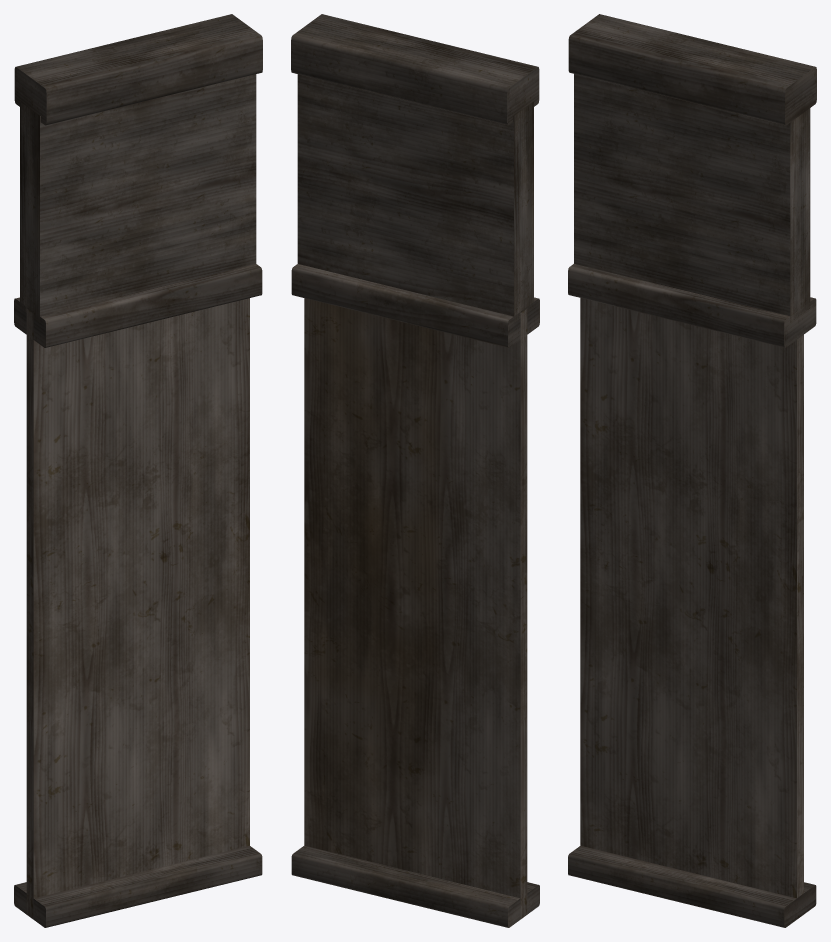
The model's file is ShrineModule_Wall-03.fbx.
3 views of the same model, side by side, from view 1: azimuth 30°, elevation 25°; view 2: azimuth 150°, elevation 25°; view 3: azimuth 330°, elevation 25° (orthographic).
Visible parts, largest first — view 1: ShrineModule_Wall-03; view 2: ShrineModule_Wall-03; view 3: ShrineModule_Wall-03.
Part boxes in pixels (left/top/right/bottom): ShrineModule_Wall-03: left=14, top=14, right=262, bottom=927; ShrineModule_Wall-03: left=291, top=14, right=539, bottom=927; ShrineModule_Wall-03: left=568, top=14, right=816, bottom=927.
Size of the model in its own units: 1.5 by 5.56 by 0.383.
